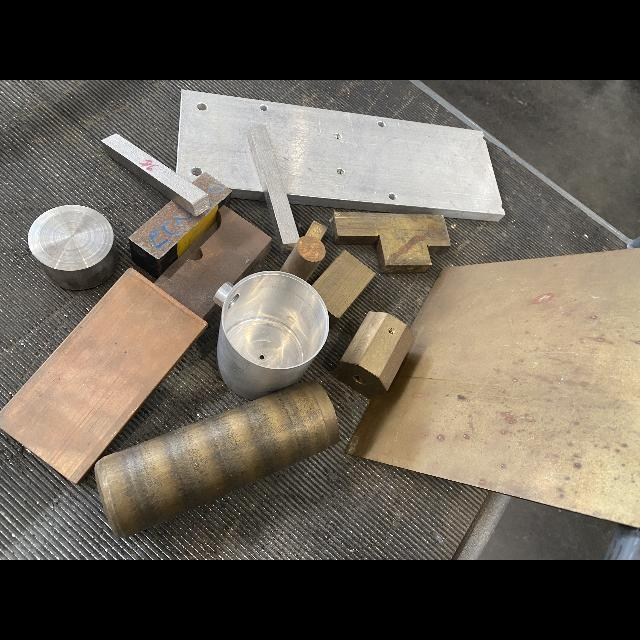Aluminium: (176, 89, 505, 222), (216, 271, 329, 399)
Brass: (347, 249, 640, 528), (95, 381, 339, 537), (332, 211, 451, 273), (333, 311, 413, 399), (312, 251, 375, 327), (303, 221, 327, 240)
Copper: (0, 268, 207, 483), (280, 236, 325, 281)
Ferrous Metal: (154, 205, 273, 323), (128, 172, 231, 279)
Stainless Steel: (101, 133, 210, 217), (27, 205, 118, 290), (247, 124, 300, 250)
